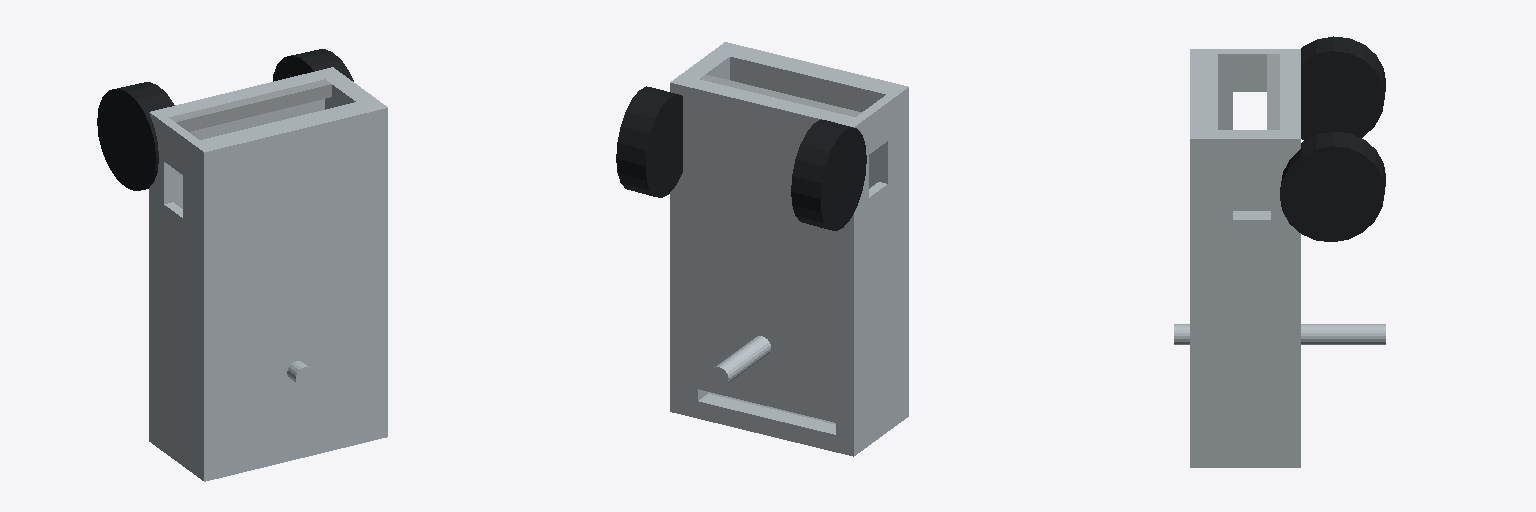
The model's file is tinker.obj.
The picture shows the model from 3 angles: view 1: azimuth 30°, elevation 25°; view 2: azimuth 150°, elevation 25°; view 3: azimuth 270°, elevation 25°; orthographic projection.
Visible parts, largest first — view 1: obj_0; view 2: obj_0; view 3: obj_0.
Boxes of the visible parts, x1=… form: obj_0: x1=97, y1=49, x2=387, y2=481; obj_0: x1=616, y1=42, x2=908, y2=456; obj_0: x1=1174, y1=36, x2=1385, y2=467.
Bounding box in the file's own units: 22.97 × 35.2 × 20.03.